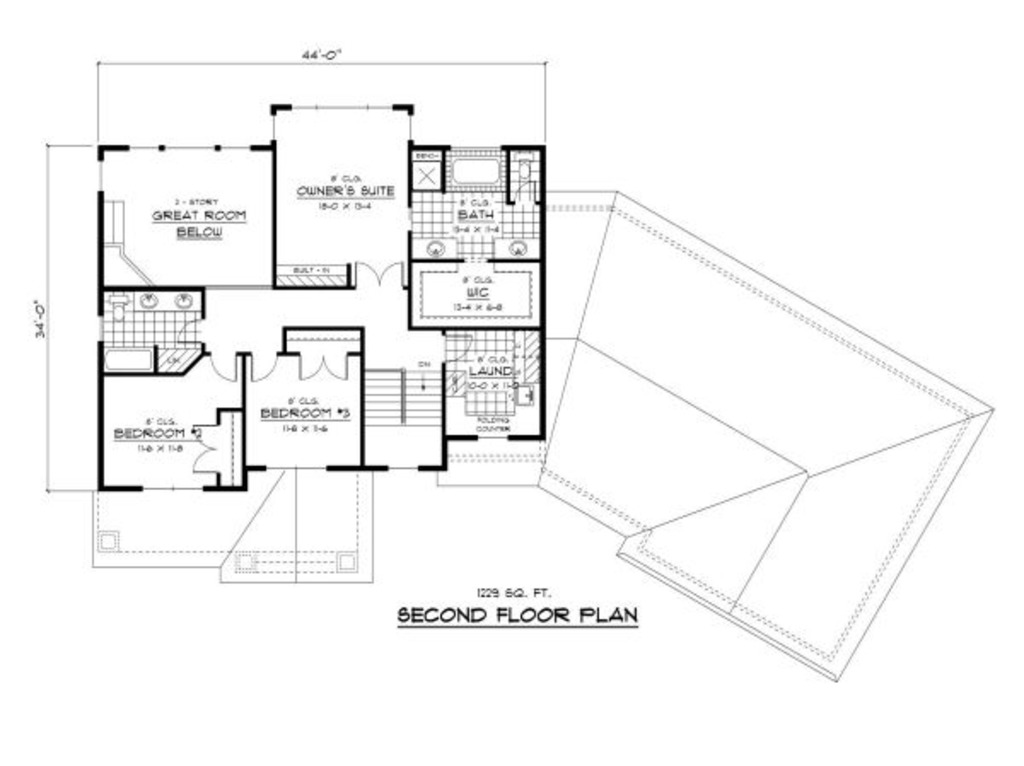door: (296, 347, 350, 385), (188, 422, 223, 478), (350, 260, 406, 292), (206, 348, 242, 385), (245, 351, 278, 383)
large_sink: (102, 290, 135, 322)
small_sink: (133, 290, 204, 313), (411, 235, 459, 261), (491, 237, 542, 258)
stairs: (357, 362, 448, 473)
tub: (446, 150, 508, 189), (102, 345, 160, 374)
windows: (286, 98, 399, 115), (118, 141, 253, 154), (263, 460, 329, 477), (138, 483, 211, 496)
